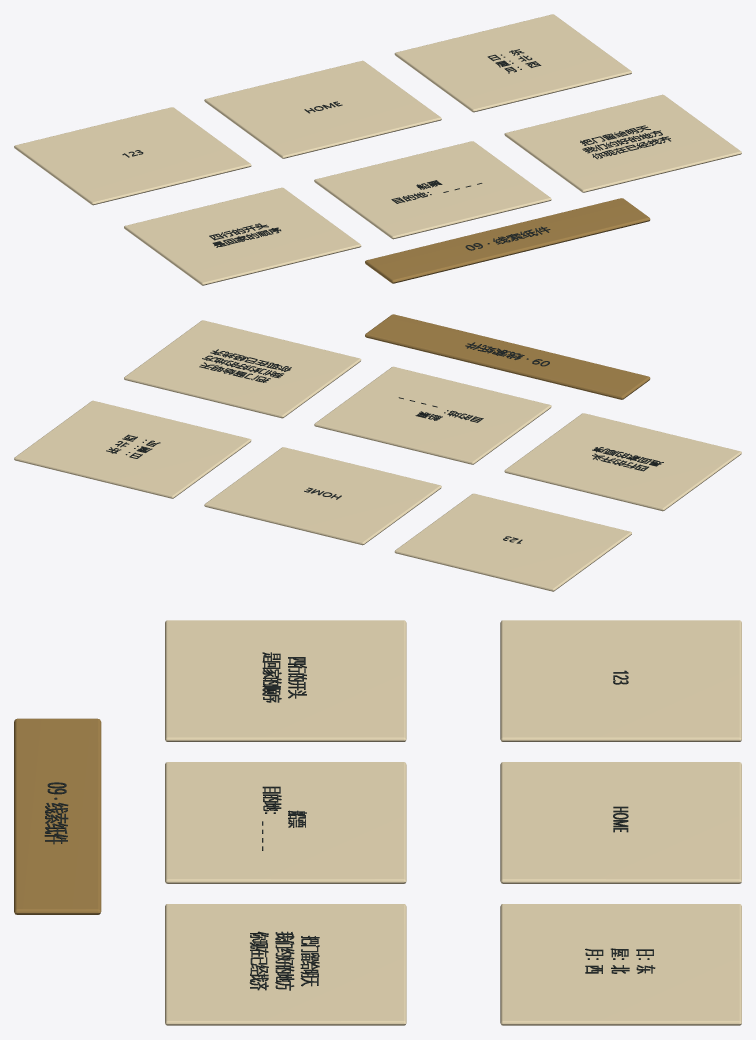
File: P09_ClueCards.fbx
3 views of the same model, one above another, from view 1: azimuth 30°, elevation 25°; view 2: azimuth 150°, elevation 25°; view 3: azimuth 270°, elevation 25° (orthographic). The views are drawn at different scales.
Visible parts, largest first — view 1: Paper card.009, Paper card.011, Paper card.006, Paper card.010, Paper card.008, Paper card.007, Plaque_09 · 线索纸件.001, Card typography.007, Card typography.008; view 2: Paper card.009, Paper card.011, Paper card.006, Paper card.010, Paper card.008, Paper card.007, Plaque_09 · 线索纸件.001, Card typography.007, Card typography.008; view 3: Paper card.009, Paper card.011, Paper card.006, Paper card.010, Paper card.008, Paper card.007, Plaque_09 · 线索纸件.001, Card typography.007, Card typography.008, Engraving_09 · 线索纸件.001, Card typography.006, Card typography.010.
Boxes of the visible parts, <box> form: Paper card.009: <box>14,107,251,205</box>; Paper card.011: <box>204,60,441,158</box>; Paper card.006: <box>394,14,631,112</box>; Paper card.010: <box>314,141,551,239</box>; Paper card.008: <box>124,187,361,285</box>; Paper card.007: <box>504,94,741,192</box>; Plaque_09 · 线索纸件.001: <box>365,198,650,283</box>; Card typography.007: <box>580,125,670,159</box>; Card typography.008: <box>209,223,281,247</box>; Paper card.009: <box>394,493,631,591</box>; Paper card.011: <box>204,447,441,545</box>; Paper card.006: <box>14,400,251,498</box>; Paper card.010: <box>314,366,551,464</box>; Paper card.008: <box>504,413,741,511</box>; Paper card.007: <box>124,320,361,418</box>; Plaque_09 · 线索纸件.001: <box>365,314,650,399</box>; Card typography.007: <box>199,349,291,382</box>; Card typography.008: <box>592,447,663,471</box>; Paper card.009: <box>500,620,741,741</box>; Paper card.011: <box>500,762,741,883</box>; Paper card.006: <box>500,904,741,1025</box>; Paper card.010: <box>165,762,406,883</box>; Paper card.008: <box>165,620,406,741</box>; Paper card.007: <box>165,904,406,1025</box>; Plaque_09 · 线索纸件.001: <box>14,718,101,914</box>; Card typography.007: <box>249,931,319,990</box>; Card typography.008: <box>262,652,306,702</box>; Engraving_09 · 线索纸件.001: <box>44,782,68,844</box>; Card typography.006: <box>585,948,655,973</box>; Card typography.010: <box>262,786,306,850</box>.
Size of the model in its own units: 0.71 by 0.0104 by 0.5425.
